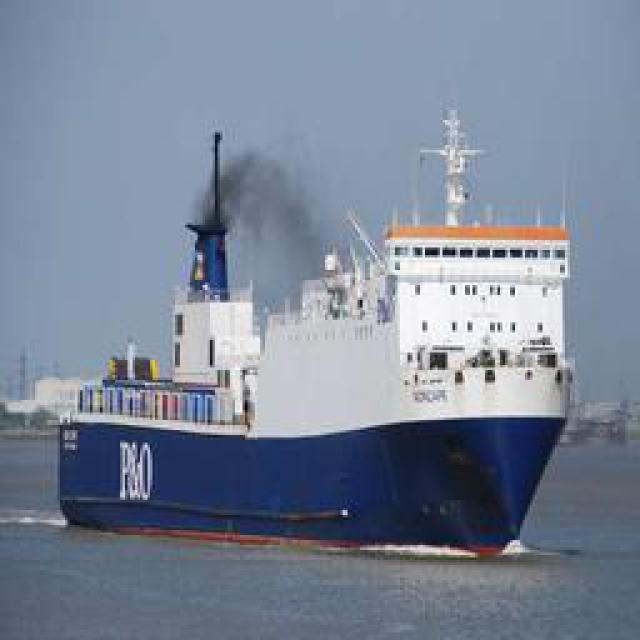Ship: (53, 41, 568, 554)
